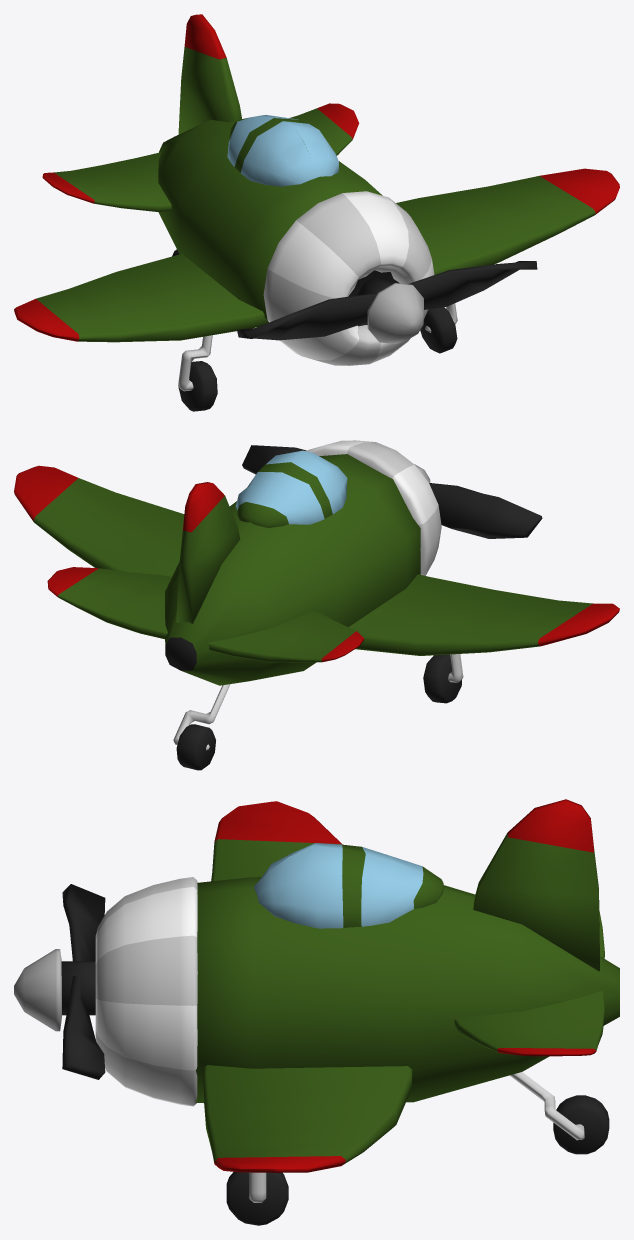
3 views of the same model, one above another, from view 1: azimuth 30°, elevation 25°; view 2: azimuth 150°, elevation 25°; view 3: azimuth 270°, elevation 25° (orthographic). The views are drawn at different scales.
Visible parts, largest first — view 1: Wings, Fuselage, Propellor_Engine, RearRutter, Propellor, Plane_Canopy, TopAirFoil, Propeller_Cap, Landing_Gear_Right, Landing_Gear_Left; view 2: Fuselage, Wings, RearRutter, Plane_Canopy, TopAirFoil, Propellor, Propellor_Engine, Landing_Gear_Back, Landing_Gear_Right; view 3: Fuselage, Wings, Propellor_Engine, TopAirFoil, Plane_Canopy, RearRutter, Propellor, Landing_Gear_Back, Landing_Gear_Left, Propeller_Cap, Propellor_Shaft.
Boxes of the visible parts, <box> form: Wings: <box>14,168,619,342</box>; Fuselage: <box>158,119,382,321</box>; Propellor_Engine: <box>263,191,434,365</box>; RearRutter: <box>42,103,359,211</box>; Propellor: <box>237,261,537,340</box>; Plane_Canopy: <box>227,115,338,186</box>; TopAirFoil: <box>178,14,241,134</box>; Propeller_Cap: <box>367,283,423,343</box>; Landing_Gear_Right: <box>178,335,217,411</box>; Landing_Gear_Left: <box>420,303,457,353</box>; Fuselage: <box>165,454,420,685</box>; Wings: <box>14,465,619,655</box>; RearRutter: <box>47,567,364,662</box>; Plane_Canopy: <box>235,450,347,527</box>; TopAirFoil: <box>176,482,240,623</box>; Propellor: <box>242,445,542,538</box>; Propellor_Engine: <box>306,440,441,575</box>; Landing_Gear_Back: <box>173,684,230,770</box>; Landing_Gear_Right: <box>423,654,463,703</box>; Fuselage: <box>196,877,619,1102</box>; Wings: <box>203,801,412,1172</box>; Propellor_Engine: <box>95,877,197,1106</box>; TopAirFoil: <box>473,799,599,971</box>; Plane_Canopy: <box>254,843,443,928</box>; RearRutter: <box>454,911,604,1056</box>; Propellor: <box>62,884,105,1079</box>; Landing_Gear_Back: <box>510,1072,609,1154</box>; Landing_Gear_Left: <box>226,1172,288,1225</box>; Propeller_Cap: <box>14,949,61,1031</box>; Propellor_Shaft: <box>61,961,95,1015</box>.
Bounding box in the file's own units: 1.38 × 0.6157 × 0.9618.
1 material, 1 textured.
